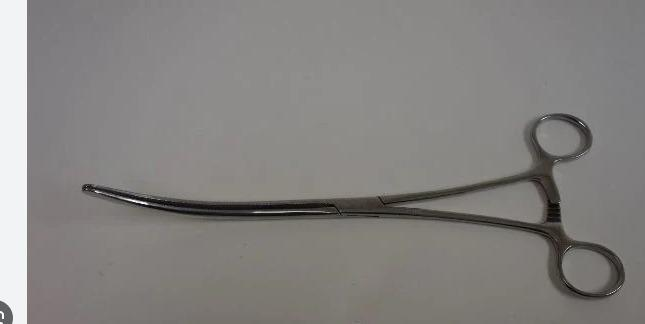Doyel Instestinal Forceps: (64, 107, 628, 298)
